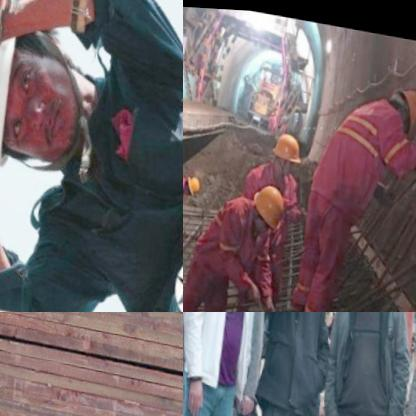helmet: (0, 0, 94, 172), (246, 178, 288, 237), (377, 78, 416, 129), (267, 125, 303, 175), (183, 170, 201, 198)
